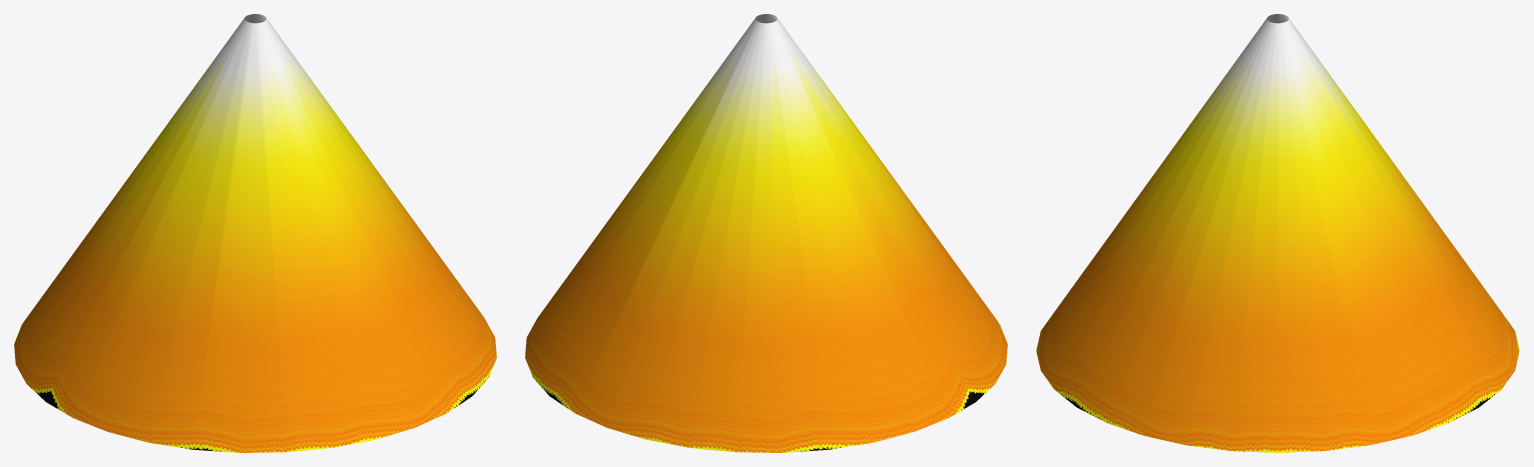
Rendered from muzzle flash.obj.
3 views of the same model, side by side, from view 1: azimuth 30°, elevation 25°; view 2: azimuth 150°, elevation 25°; view 3: azimuth 270°, elevation 25° (orthographic).
Visible parts, largest first — view 1: Cone; view 2: Cone; view 3: Cone.
Part boxes in pixels (<box>): Cone: <box>14,14,496,452</box>; Cone: <box>525,14,1007,452</box>; Cone: <box>1036,14,1519,452</box>.
Size of the model in its own units: 2 by 1.52 by 2.
Materials: 1 (1 with a texture image).
